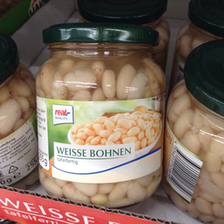beans: (37, 19, 166, 207), (170, 33, 224, 212)
